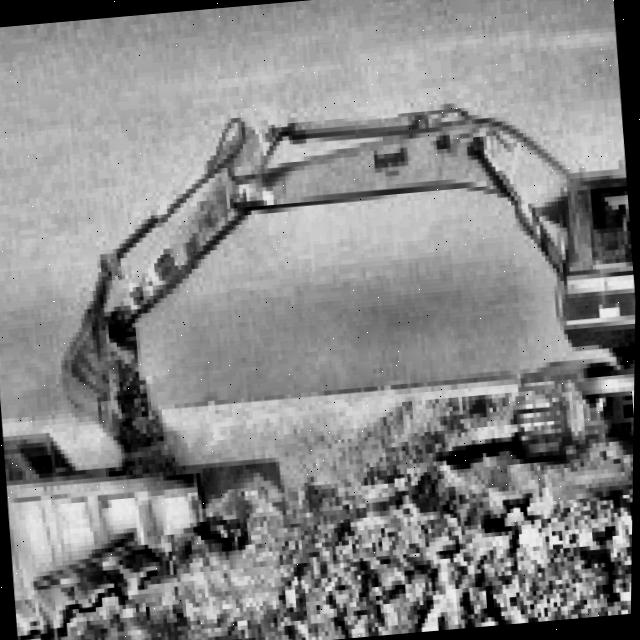dump_truck: (0, 375, 317, 640)
excavator: (6, 12, 640, 517)
